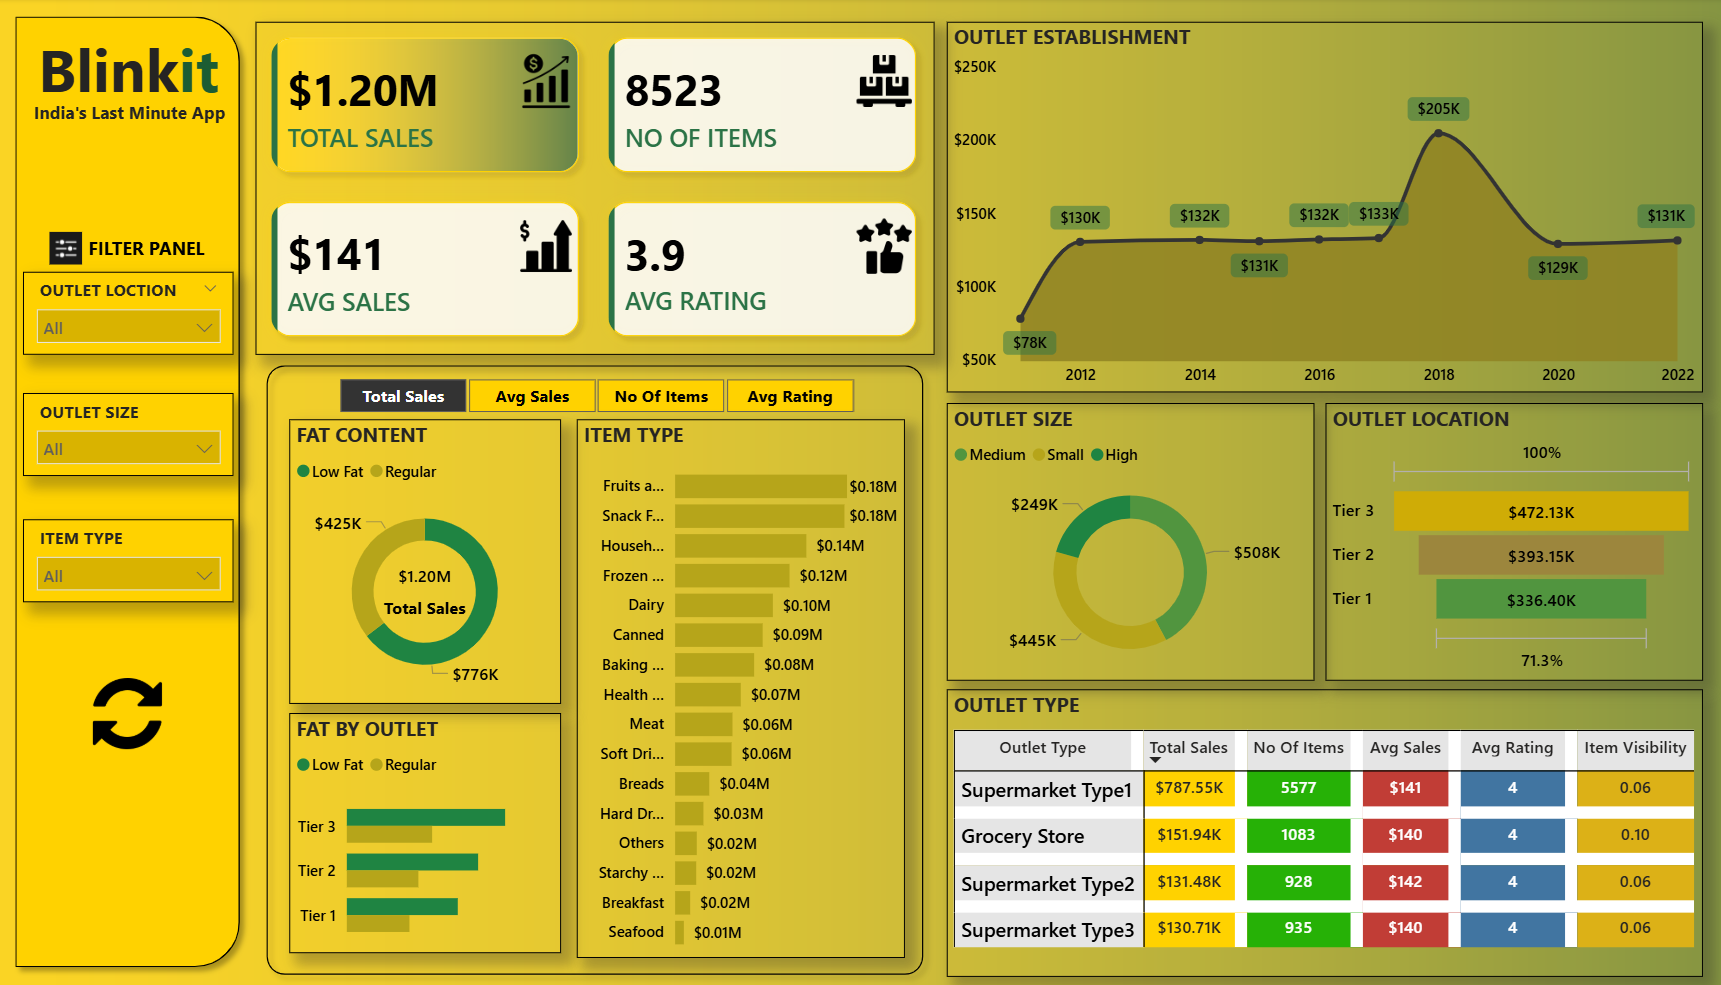

The dashboard page shown, as its layout file describes it:
{"tool":"powerbi","page":{"name":"Page 1","canvas":[1400,800],"ordinal":0},"visuals":[{"type":"shape","box":[5.1,6.4,199.7,787.2],"z":0},{"type":"textbox","box":[1.3,19.1,214.9,85.2],"z":1000},{"type":"textbox","box":[1.3,77.6,207.3,35.6],"z":2000},{"type":"cardVisual","fields":{"Data":["BlinkIT Grocery Data.Total Sales","BlinkIT Grocery Data.No Of Items","BlinkIT Grocery Data.Avg Sales","BlinkIT Grocery Data.Avg Rating"]},"box":[208.6,19.1,549.4,269.6],"z":3000},{"type":"shape","box":[208.6,288.7,549.4,511.3],"z":4000},{"type":"donutChart","title":"FAT CONTENT","fields":{"Y":["BlinkIT Grocery Data.Total Sales"],"Category":["BlinkIT Grocery Data.Item Fat Content"]},"box":[235.3,340.8,220,230.2],"z":5000},{"type":"slicer","fields":{"Values":["Matrics.Matrics"]},"box":[250.5,301.4,465.5,39.4],"z":6000},{"type":"card","fields":{"Values":["BlinkIT Grocery Data.Total Sales"]},"box":[300.1,441.3,90.3,76.3],"z":7000},{"type":"clusteredBarChart","title":"FAT BY OUTLET","fields":{"Y":["BlinkIT Grocery Data.Total Sales"],"Category":["BlinkIT Grocery Data.Outlet Location Type"],"Series":["BlinkIT Grocery Data.Item Fat Content"]},"box":[235.3,578.7,220,194.6],"z":8000},{"type":"barChart","title":"ITEM TYPE","fields":{"Y":["BlinkIT Grocery Data.Total Sales"],"Category":["BlinkIT Grocery Data.Item Type"]},"box":[468,340.8,265.8,436.2],"z":9000},{"type":"lineChart","title":"OUTLET ESTABLISHMENT","fields":{"Y":["BlinkIT Grocery Data.Total Sales"],"Category":["BlinkIT Grocery Data.Outlet Establishment Year"]},"box":[768.2,19.1,611.7,300.1],"z":10000},{"type":"donutChart","title":"OUTLET SIZE","fields":{"Y":["BlinkIT Grocery Data.Total Sales"],"Category":["BlinkIT Grocery Data.Outlet Size"]},"box":[768.2,328.1,297.6,225.1],"z":11000},{"type":"funnel","title":"OUTLET LOCATION","fields":{"Category":["BlinkIT Grocery Data.Outlet Location Type"],"Y":["BlinkIT Grocery Data.Total Sales"]},"box":[1074.7,328.1,305.2,225.1],"z":12000},{"type":"pivotTable","title":"OUTLET TYPE","fields":{"Rows":["BlinkIT Grocery Data.Outlet Type"],"Values":["BlinkIT Grocery Data.Total Sales","BlinkIT Grocery Data.No Of Items","BlinkIT Grocery Data.Avg Sales","BlinkIT Grocery Data.Avg Rating","Avg(BlinkIT Grocery Data.Item Visibility)"]},"box":[768.2,559.6,611.7,232.7],"z":13000},{"type":"slicer","fields":{"Values":["BlinkIT Grocery Data.Outlet Location Type"]},"box":[20.3,221.3,170.4,67.4],"z":14000},{"type":"slicer","fields":{"Values":["BlinkIT Grocery Data.Outlet Size"]},"box":[20.3,319.2,170.4,67.4],"z":15000},{"type":"slicer","fields":{"Values":["BlinkIT Grocery Data.Item Type"]},"box":[20.3,422.2,170.4,67.4],"z":16000},{"type":"actionButton","box":[38.2,181.9,135.9,39.3],"z":17000},{"type":"image","box":[25.8,550.2,157.2,57.3],"z":18000}]}

Visuals, with their boxes in screenshot pixels (x1, y1, x2, y2), scaled from the page's 1400x800 canvas onto the 1721x985 screenshot:
shape: x1=6 y1=8 x2=252 y2=977
textbox: x1=2 y1=24 x2=266 y2=128
textbox: x1=2 y1=96 x2=256 y2=139
cardVisual - BlinkIT Grocery Data.Total Sales x BlinkIT Grocery Data.No Of Items: x1=256 y1=24 x2=932 y2=355
shape: x1=256 y1=355 x2=932 y2=984
"FAT CONTENT" donutChart: x1=289 y1=420 x2=560 y2=703
slicer - Matrics.Matrics: x1=308 y1=371 x2=880 y2=420
card - BlinkIT Grocery Data.Total Sales: x1=369 y1=543 x2=480 y2=637
"FAT BY OUTLET" clusteredBarChart: x1=289 y1=713 x2=560 y2=952
"ITEM TYPE" barChart: x1=575 y1=420 x2=902 y2=957
"OUTLET ESTABLISHMENT" lineChart: x1=944 y1=24 x2=1696 y2=393
"OUTLET SIZE" donutChart: x1=944 y1=404 x2=1310 y2=681
"OUTLET LOCATION" funnel: x1=1321 y1=404 x2=1696 y2=681
"OUTLET TYPE" pivotTable: x1=944 y1=689 x2=1696 y2=976
slicer - BlinkIT Grocery Data.Outlet Location Type: x1=25 y1=272 x2=234 y2=355
slicer - BlinkIT Grocery Data.Outlet Size: x1=25 y1=393 x2=234 y2=476
slicer - BlinkIT Grocery Data.Item Type: x1=25 y1=520 x2=234 y2=603
actionButton: x1=47 y1=224 x2=214 y2=272
image: x1=32 y1=677 x2=225 y2=748
